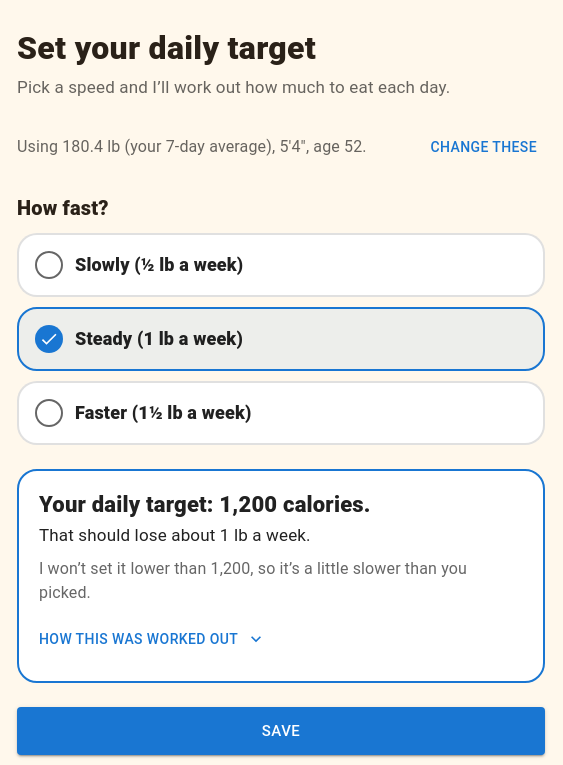
Test: Quick target — Simple › keeps the BMR/TDEE card behind "How this was worked out"
Expected: the element with test id "quick-result" is shown, x1=17 y1=469 x2=545 y2=683
Click the button "How this was worked out": [151, 639] box x1=39 y1=617 x2=262 y2=661
(page scrolled)
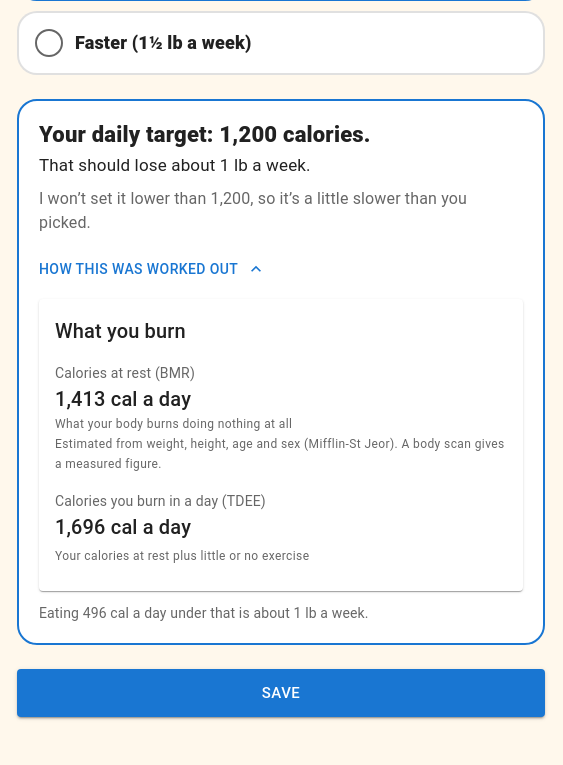
Expected: the element with test id "metabolism-card" is shown, x1=39 y1=299 x2=523 y2=591
